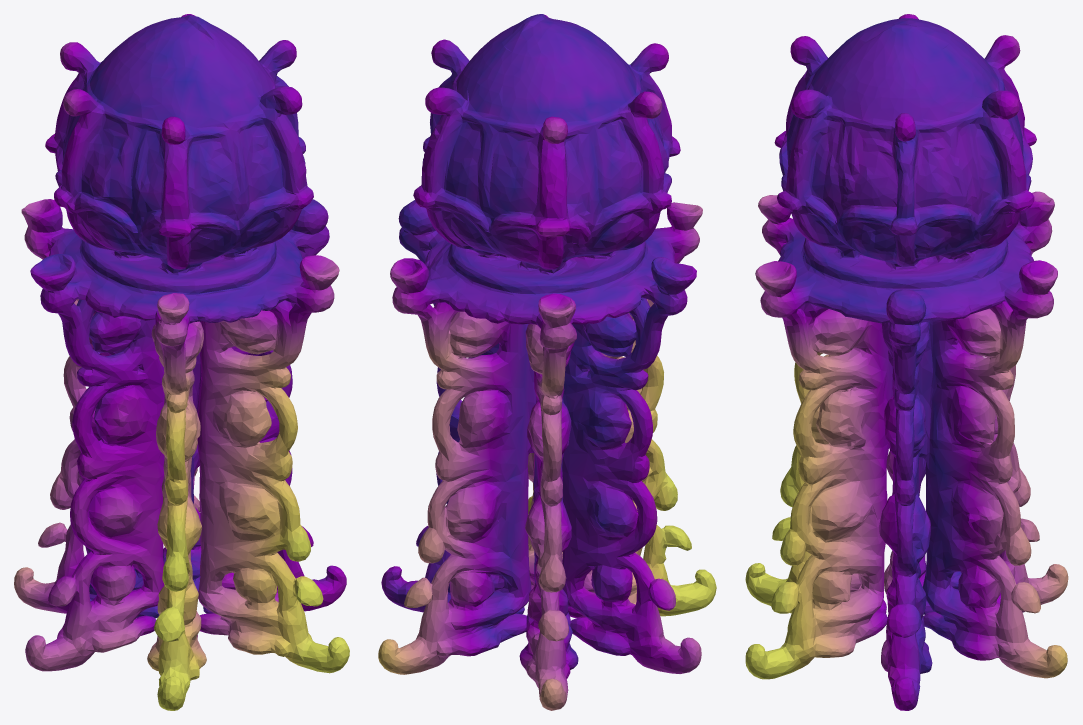
File: iter_1.glb
3 views of the same model, side by side, from view 1: azimuth 30°, elevation 25°; view 2: azimuth 150°, elevation 25°; view 3: azimuth 270°, elevation 25° (orthographic).
Parts seen in each view (by area): view 1: textured_mesh; view 2: textured_mesh; view 3: textured_mesh.
Part boxes in pixels (x1,y1,x2,y2): textured_mesh: (14, 14, 349, 710); textured_mesh: (378, 14, 716, 710); textured_mesh: (745, 14, 1068, 710).
Bounding box in the file's own units: 1.07 × 1.99 × 0.937.
